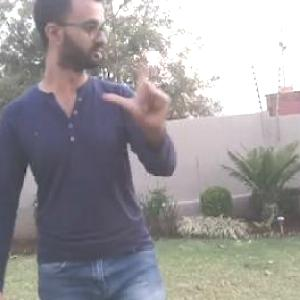land_hand: (103, 45, 173, 132)
